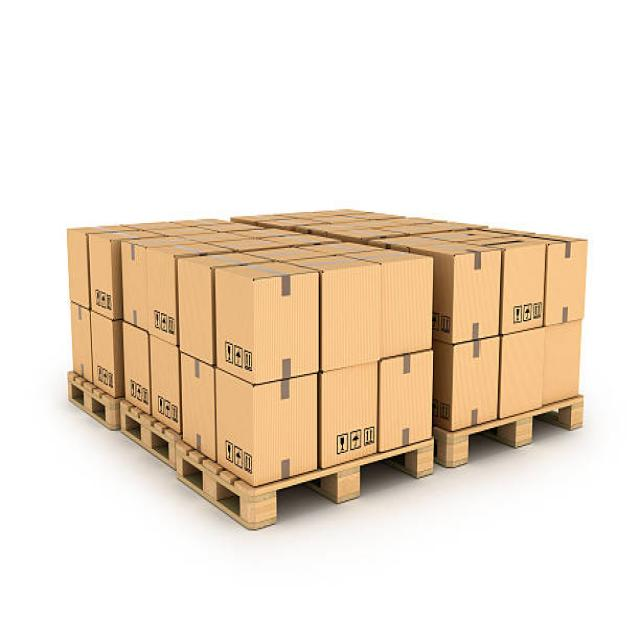Wooden-Pallets: (170, 434, 431, 536), (447, 394, 589, 474), (112, 394, 174, 479), (57, 365, 121, 442)
